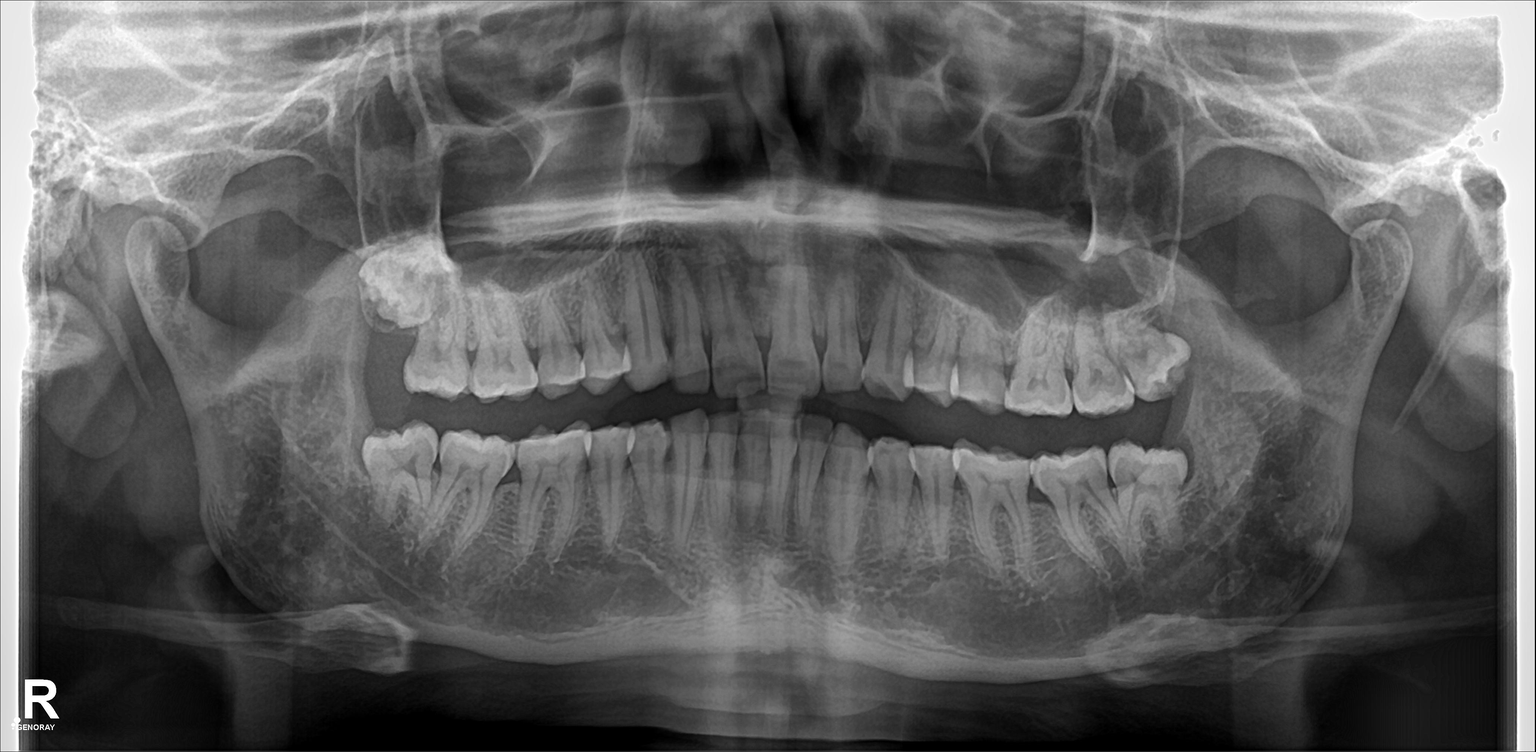Impacted Third Molar: (1110, 441, 1187, 565), (359, 426, 438, 521), (350, 251, 445, 328)
